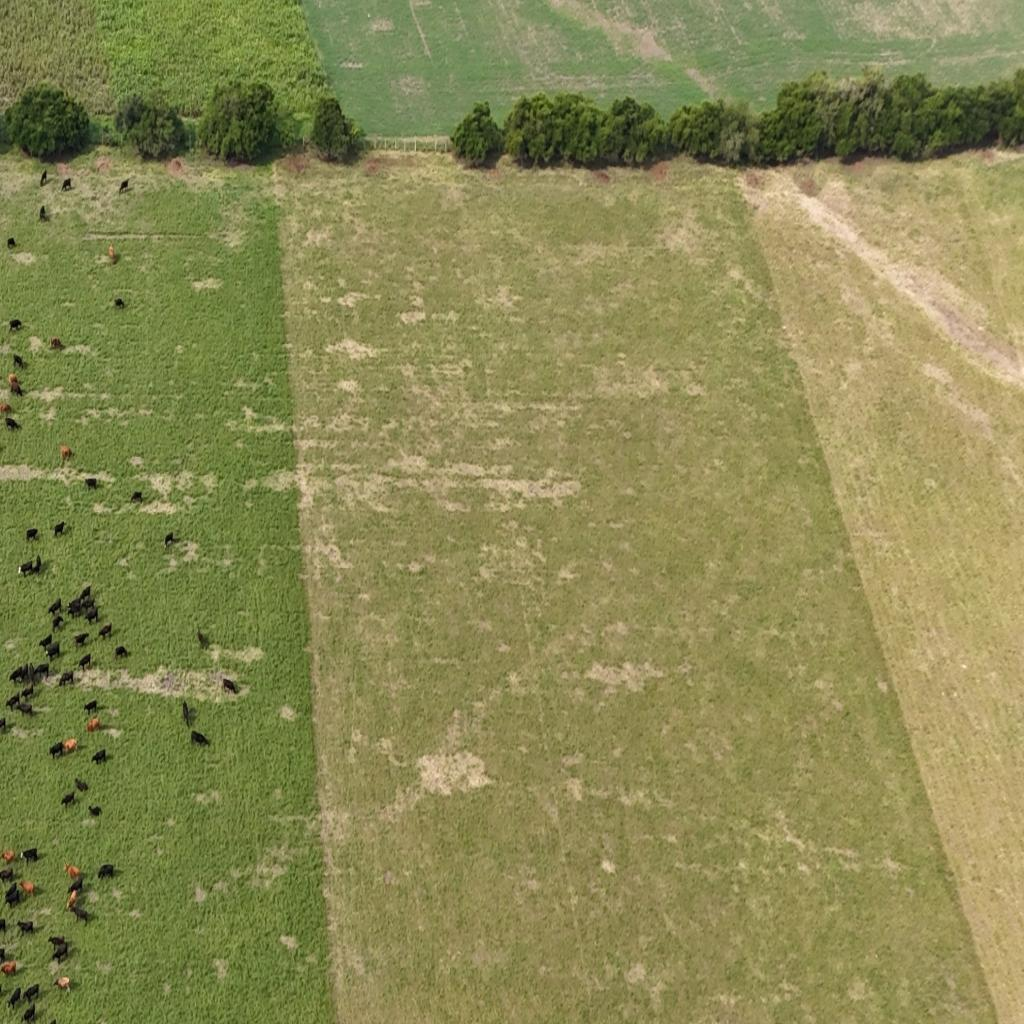cow: (48, 935, 68, 962), (17, 556, 40, 578), (67, 599, 87, 620), (4, 883, 20, 909), (68, 904, 88, 924), (182, 700, 196, 728), (22, 983, 40, 1003), (191, 730, 210, 748), (7, 986, 22, 1008), (14, 702, 34, 718), (34, 661, 50, 681), (17, 918, 34, 936), (21, 1002, 36, 1022), (64, 863, 80, 881), (0, 960, 18, 976), (5, 693, 21, 711), (8, 666, 24, 684), (8, 373, 22, 393), (47, 641, 61, 661), (98, 863, 114, 880), (91, 748, 107, 765), (58, 670, 74, 687), (49, 741, 64, 759), (77, 653, 92, 671), (38, 634, 53, 652), (48, 598, 62, 617), (197, 628, 209, 650), (222, 678, 238, 694), (60, 791, 76, 807), (22, 847, 39, 862), (98, 622, 112, 640), (66, 889, 78, 910), (85, 606, 99, 624), (86, 716, 100, 733), (21, 880, 35, 897), (74, 632, 88, 649), (0, 867, 14, 884), (50, 616, 64, 633), (79, 584, 92, 602), (1, 849, 16, 864), (74, 778, 88, 794), (56, 976, 70, 992), (22, 683, 35, 700), (5, 418, 20, 432), (62, 738, 77, 752), (60, 445, 73, 461), (84, 700, 98, 714), (114, 646, 128, 659), (84, 477, 98, 490), (26, 528, 39, 542), (50, 337, 64, 350), (54, 521, 66, 536), (13, 354, 25, 369), (130, 491, 143, 504), (0, 401, 12, 415), (164, 532, 175, 547), (89, 804, 101, 817), (10, 320, 22, 332), (0, 917, 8, 935), (61, 178, 71, 192), (118, 180, 128, 194), (40, 170, 48, 186), (114, 298, 124, 310), (39, 205, 46, 222), (7, 238, 17, 249), (0, 718, 7, 733), (108, 245, 114, 262), (48, 1017, 57, 1024)
